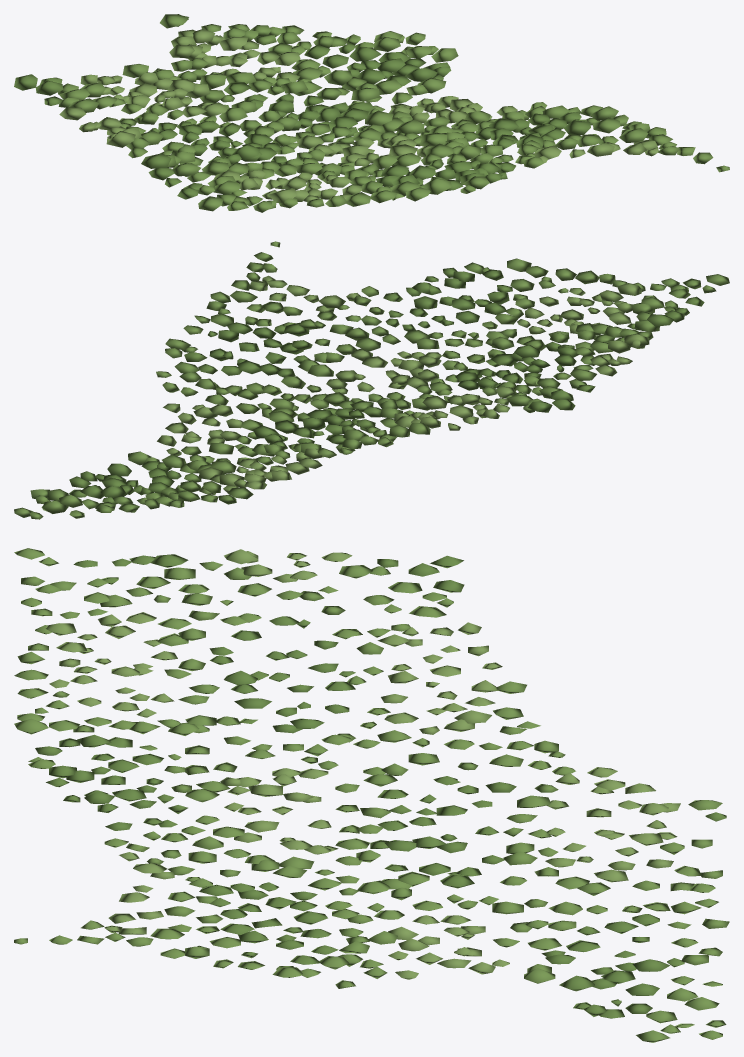
Rendered from canopy-1--6-2.glb.
3 renders of one model, top to bottom at view 1: azimuth 30°, elevation 25°; view 2: azimuth 150°, elevation 25°; view 3: azimuth 270°, elevation 25°, orthographic. The views are drawn at different scales.
Bounding box in the file's own units: 510 × 165 × 512.
1 material, 1 textured.
